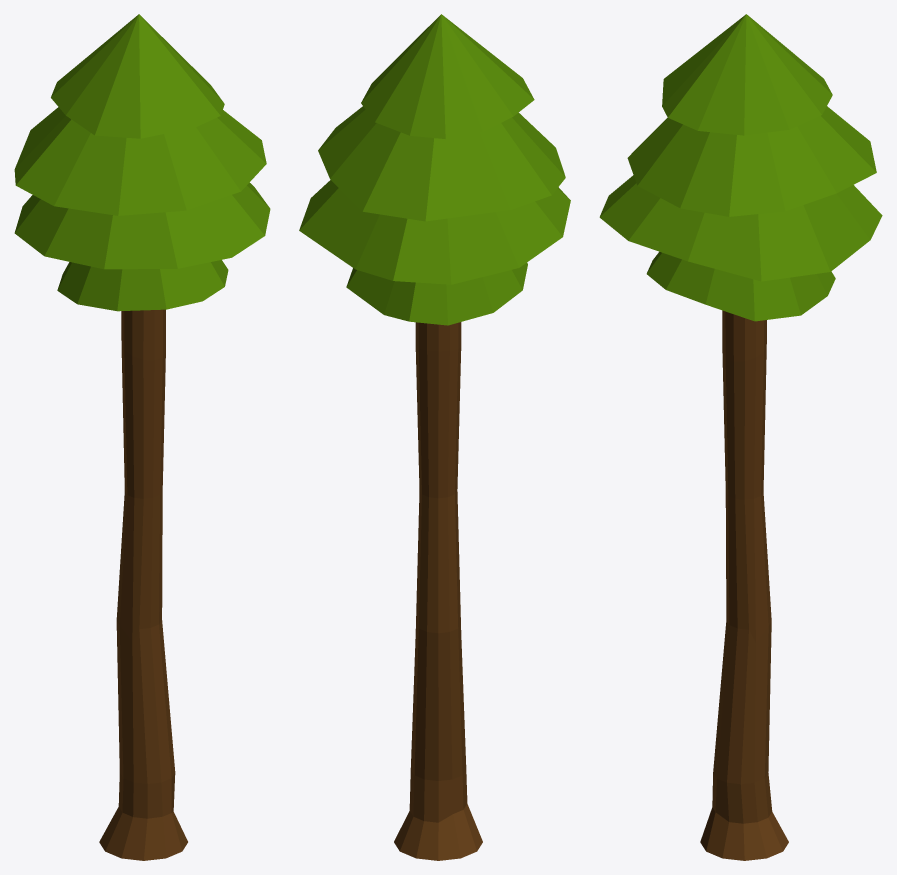
The model's file is Pine_2.fbx.
The picture shows the model from 3 angles, left to right: view 1: azimuth 30°, elevation 25°; view 2: azimuth 150°, elevation 25°; view 3: azimuth 270°, elevation 25°; orthographic projection.
Visible parts, largest first — view 1: Pine; view 2: Pine; view 3: Pine.
Part boxes in pixels (x1,y1,x2,y2): Pine: (14, 14, 270, 860); Pine: (299, 14, 570, 860); Pine: (599, 14, 882, 860).
Size of the model in its own units: 7.92 by 26.15 by 8.12.
